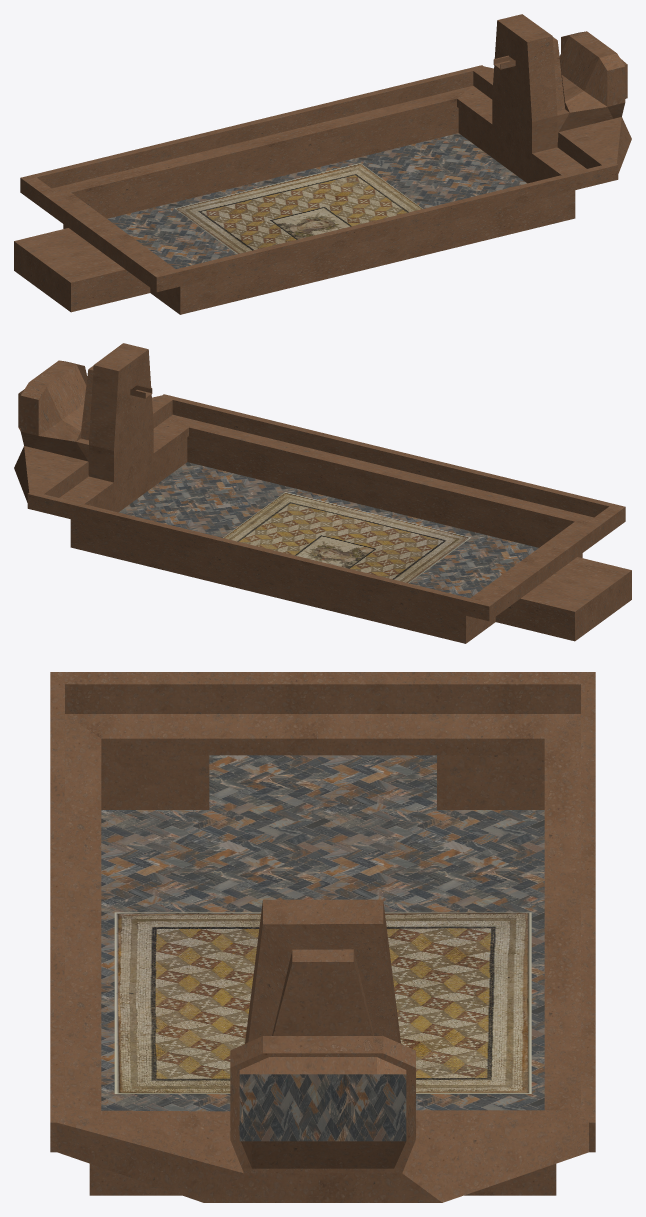
The model's file is mdl_apa_impluviuml.gltf.
3 renders of one model, top to bottom at view 1: azimuth 30°, elevation 25°; view 2: azimuth 150°, elevation 25°; view 3: azimuth 270°, elevation 25°, orthographic. The views are drawn at different scales.
Parts seen in each view (by area): view 1: Impluvium; view 2: Impluvium; view 3: Impluvium.
Part boxes in pixels (left/top/right/bottom): Impluvium: left=14, top=14, right=631, bottom=314; Impluvium: left=14, top=343, right=631, bottom=643; Impluvium: left=50, top=672, right=595, bottom=1202.
Bounding box in the file's own units: 5.59 × 1.38 × 2.34.
3 materials, 3 textured.
